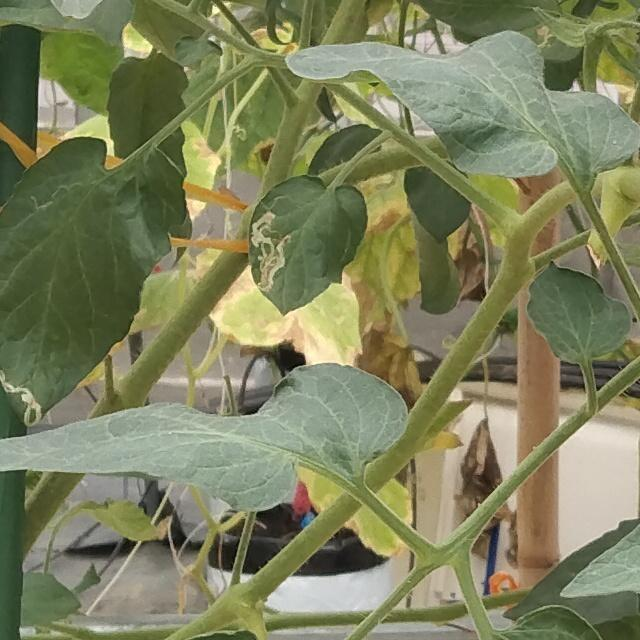Healthy: (0, 358, 415, 522), (283, 28, 640, 182), (522, 253, 640, 368)
Leaf_Miner: (1, 131, 187, 433), (243, 169, 371, 318)
